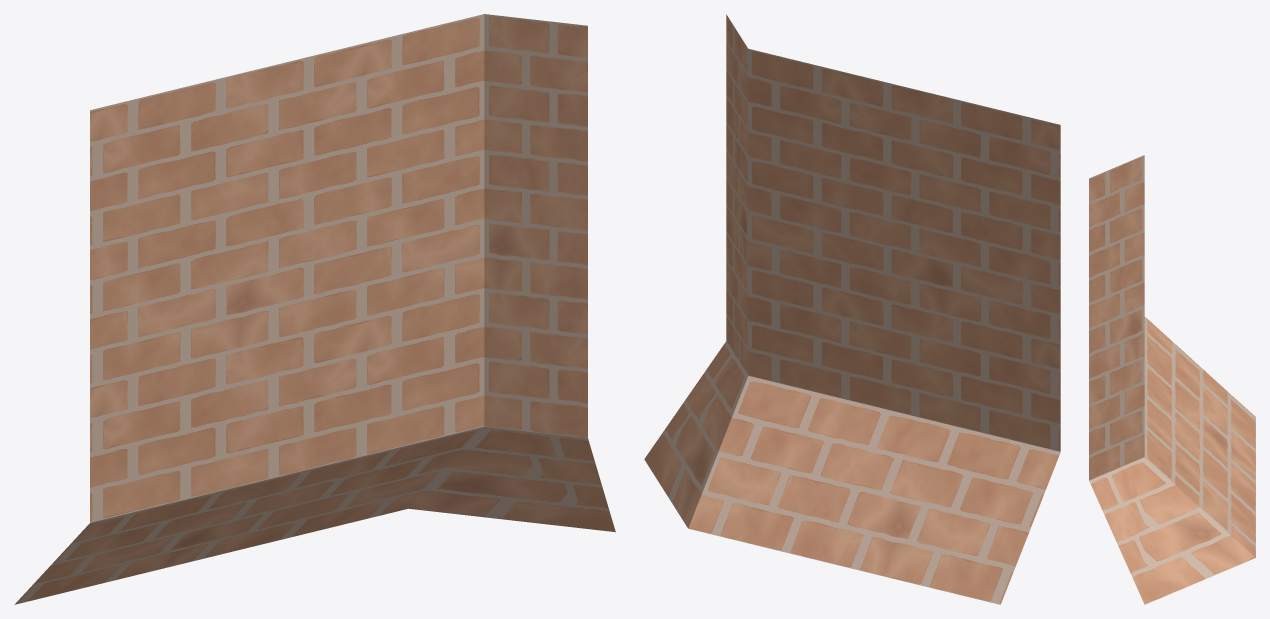
The model's file is Bot_Temp_Wall_Cor_R.fbx.
3 views of the same model, side by side, from view 1: azimuth 30°, elevation 25°; view 2: azimuth 150°, elevation 25°; view 3: azimuth 270°, elevation 25° (orthographic). The views are drawn at different scales.
Visible parts, largest first — view 1: Bot_Temp_Wall_Cor_R; view 2: Bot_Temp_Wall_Cor_R; view 3: Bot_Temp_Wall_Cor_R.
Part boxes in pixels (<box>): Bot_Temp_Wall_Cor_R: <box>14,14,615,604</box>; Bot_Temp_Wall_Cor_R: <box>644,14,1060,604</box>; Bot_Temp_Wall_Cor_R: <box>1089,155,1255,604</box>.
Size of the model in its own units: 100 by 100 by 37.5.
1 material, 1 textured.
